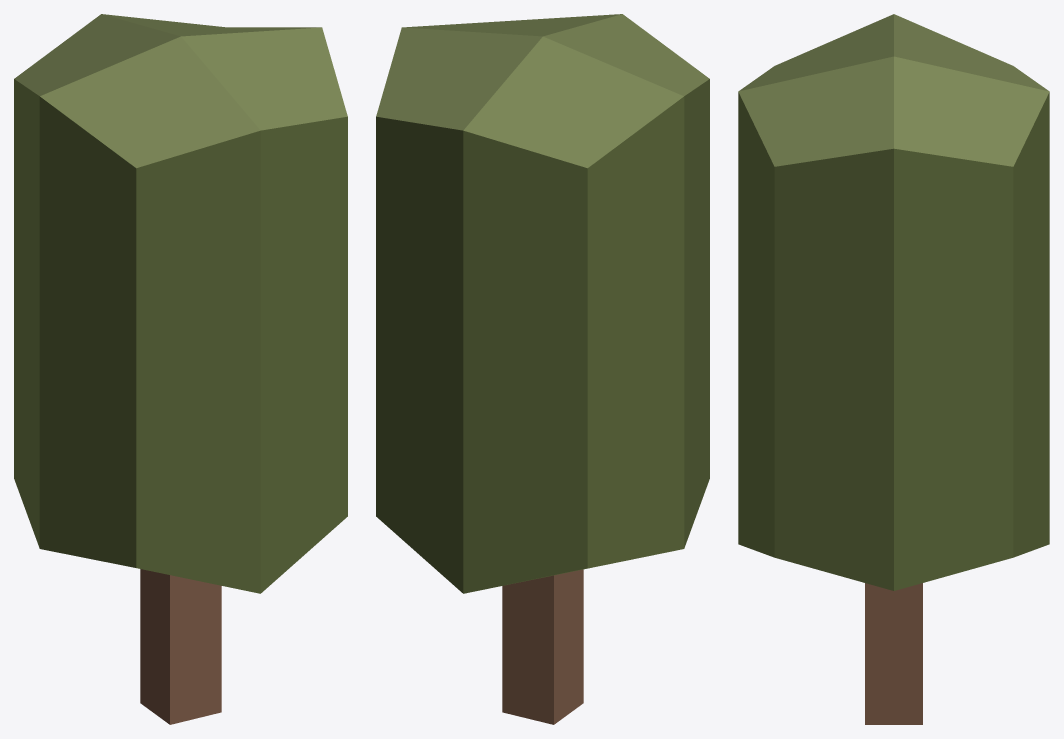
The model's file is voxel_tree_7.fbx.
The picture shows the model from 3 angles, left to right: view 1: azimuth 30°, elevation 25°; view 2: azimuth 150°, elevation 25°; view 3: azimuth 270°, elevation 25°; orthographic projection. The views are drawn at different scales.
Parts seen in each view (by area): view 1: voxel_tree_7; view 2: voxel_tree_7; view 3: voxel_tree_7.
Part boxes in pixels (left/top/right/bottom): voxel_tree_7: left=14, top=14, right=347, bottom=724; voxel_tree_7: left=376, top=14, right=709, bottom=724; voxel_tree_7: left=738, top=14, right=1049, bottom=724.
Bounding box in the file's own units: 246 × 558 × 240.
